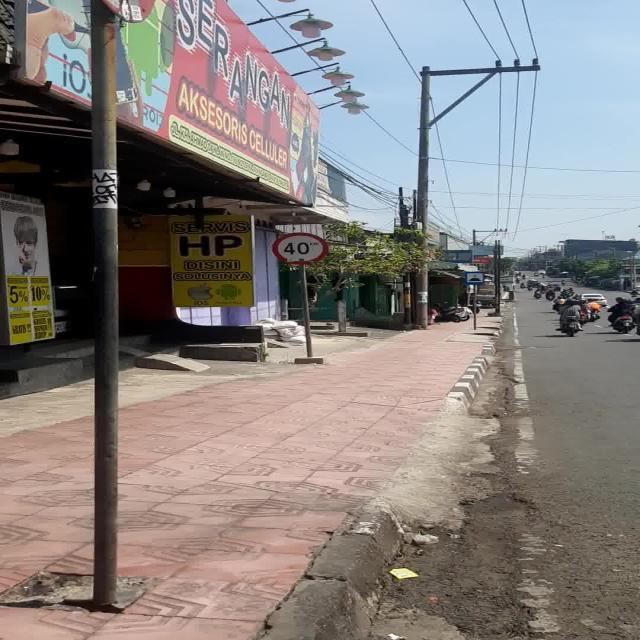Kecepatan Maks. 40 km: (272, 232, 328, 264)
